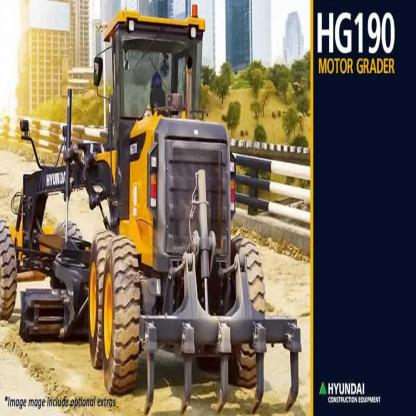bull_dozer/loader/grader: (11, 3, 302, 403)
